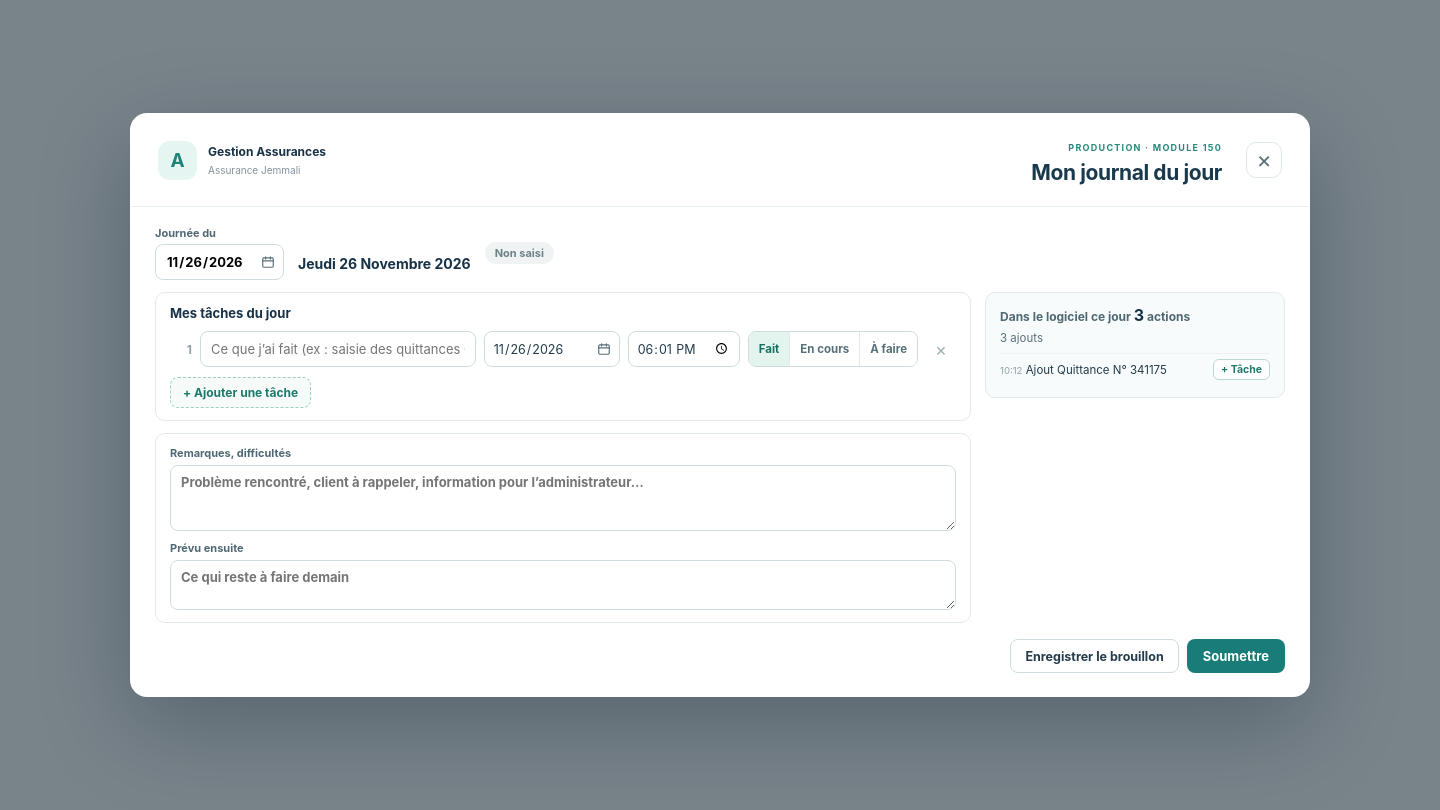
Test: an employee writes the day, adds a software action as a task, validates and sends it on WhatsApp
Replace the text in the field named "Tâche 1" with "Relance du client 4914": x=338, y=349 x1=200 y1=331 x2=476 y2=367
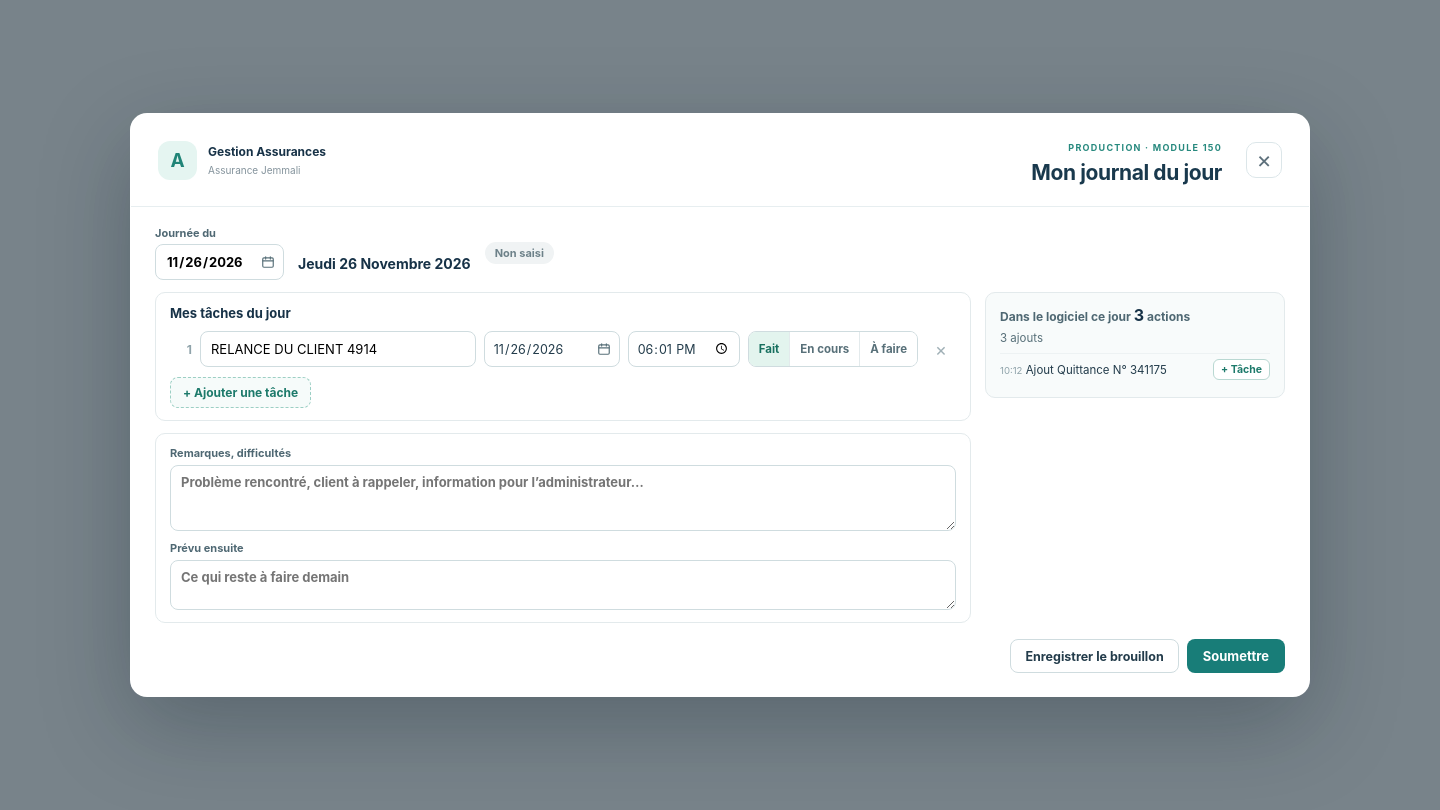
Click the button "En cours": x=824, y=349 x1=789 y1=332 x2=859 y2=366
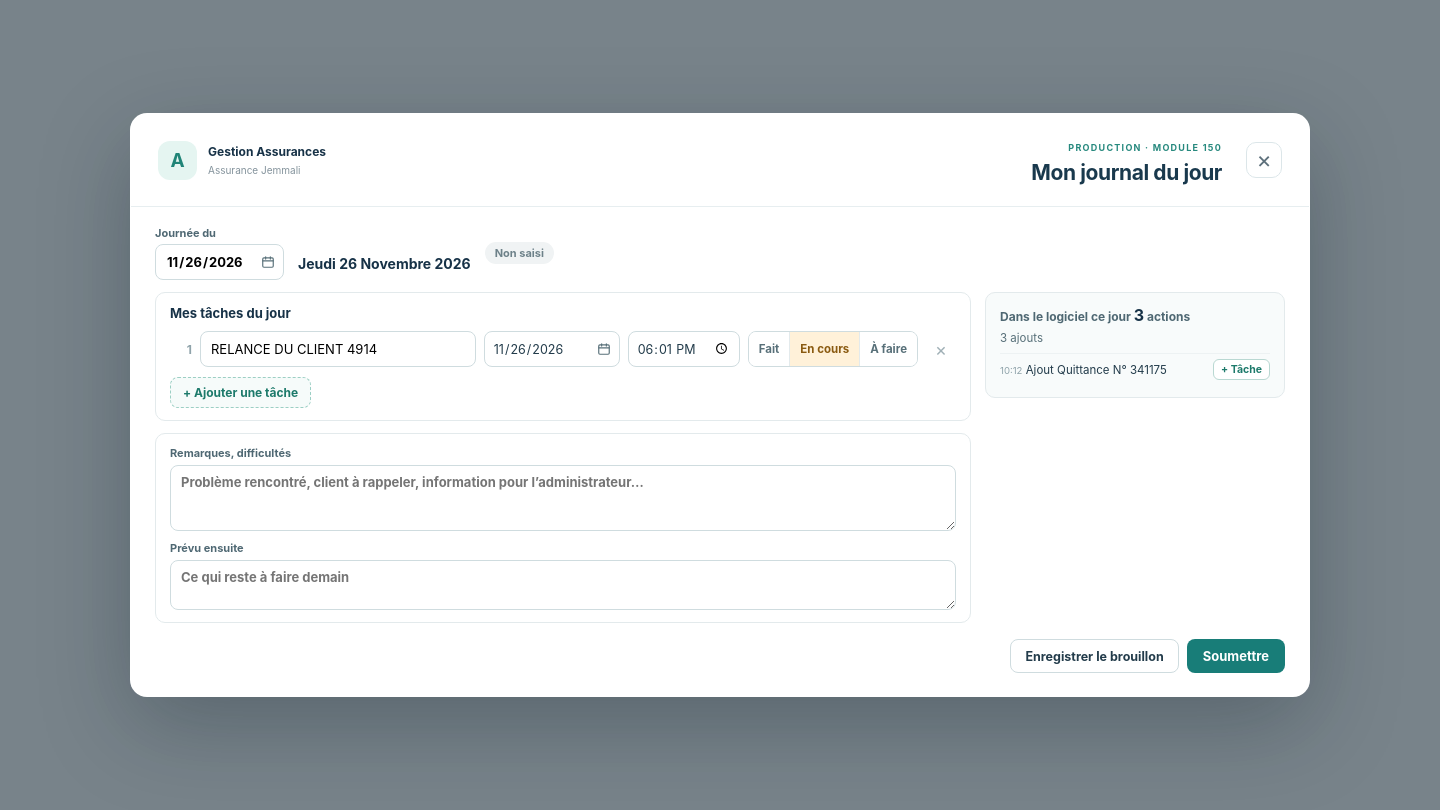
Replace the text in the time field named "Heure de la tâche 1" with "09:45": x=684, y=349 x1=628 y1=331 x2=740 y2=367
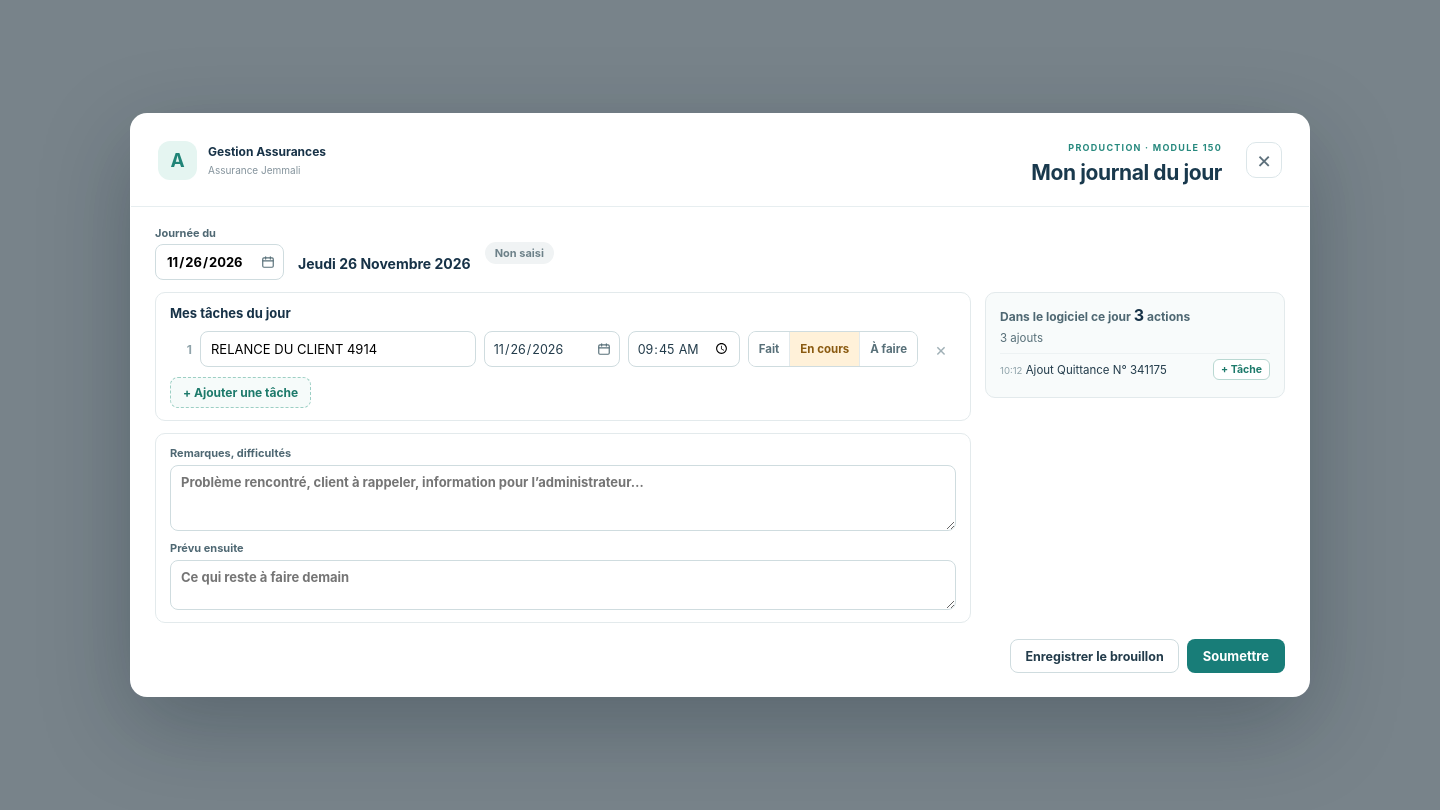
Click the button "+ Tâche": x=1242, y=370 x1=1213 y1=359 x2=1270 y2=380
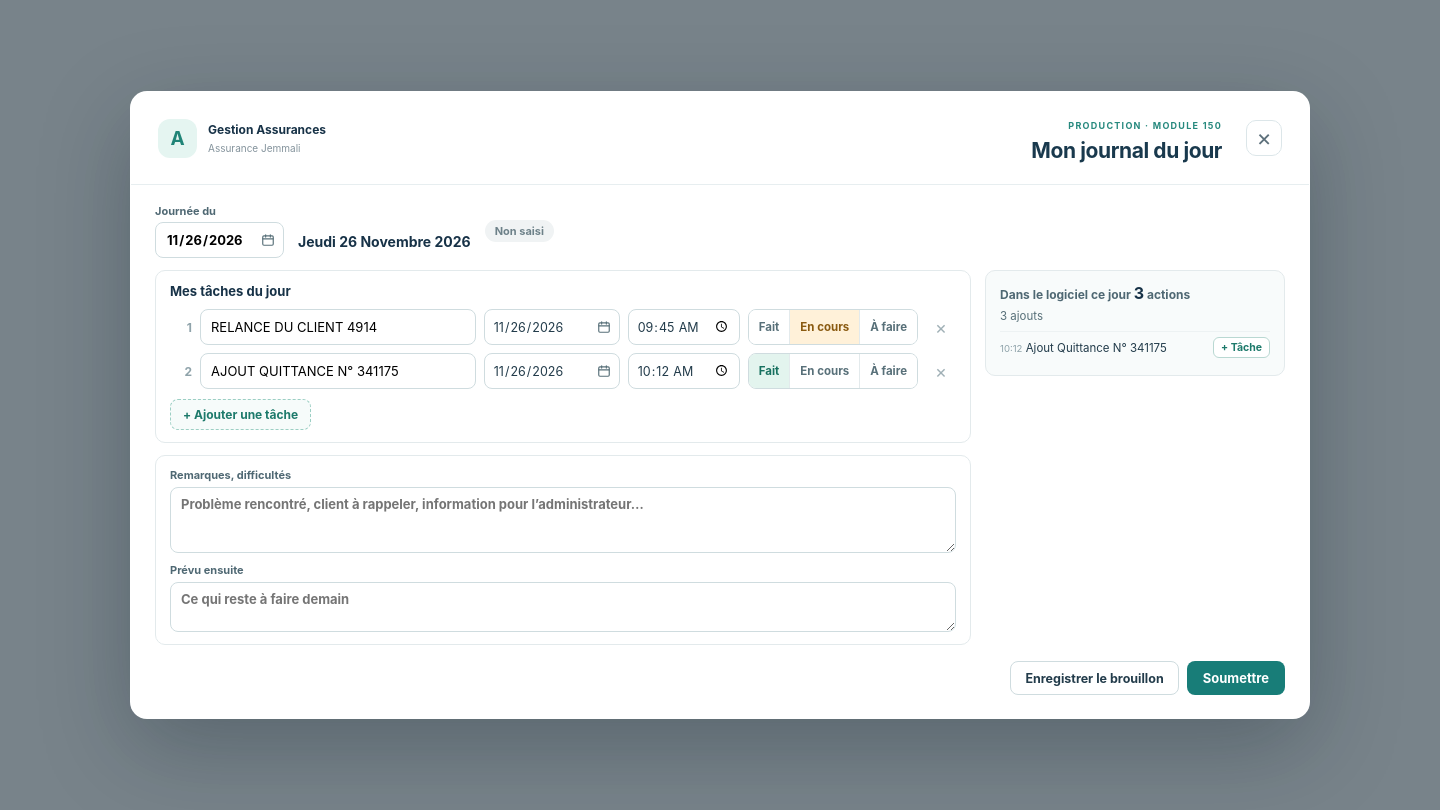
Click the button "Soumettre": x=1236, y=678 x1=1187 y1=661 x2=1285 y2=695
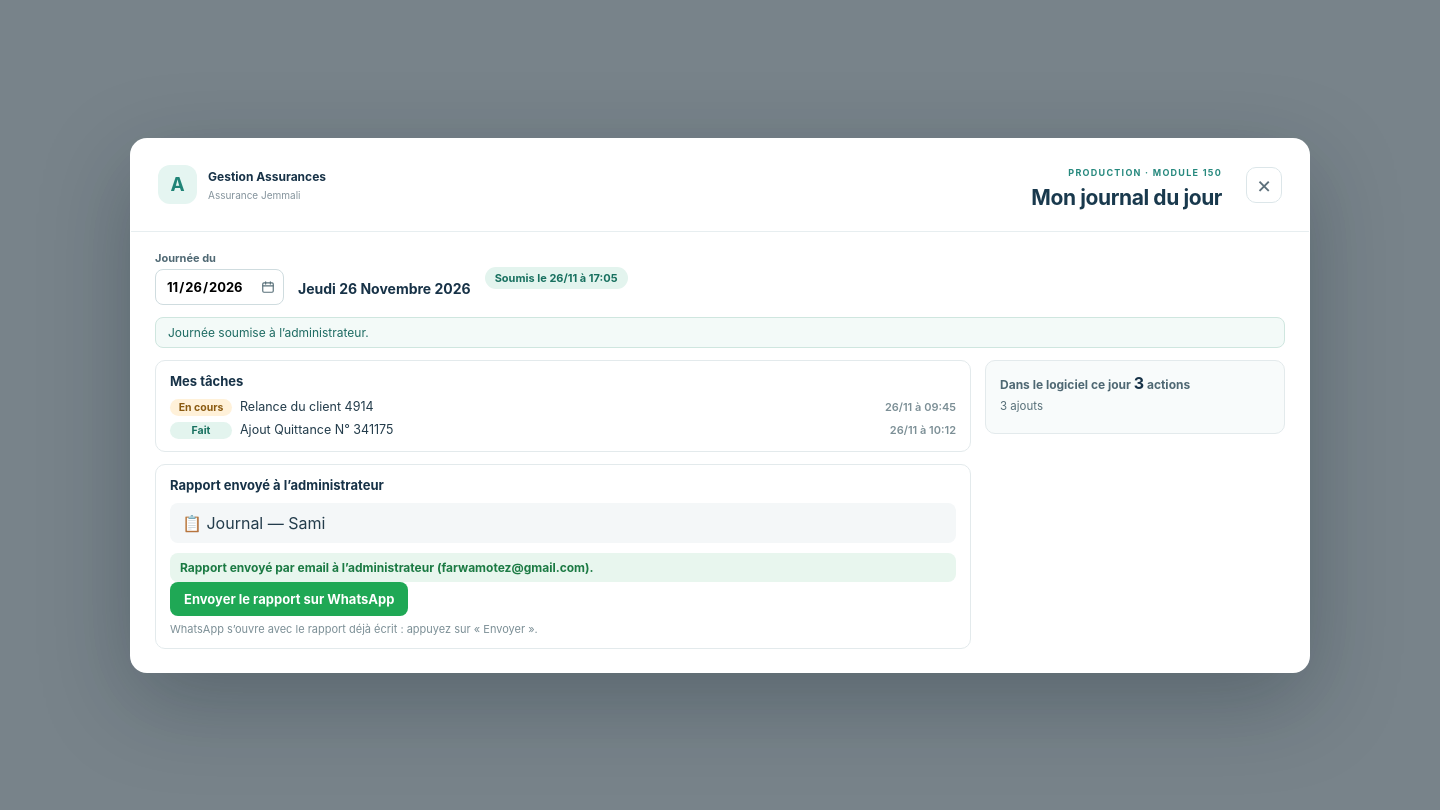
Check: the text "Rapport envoyé par email à l’administrateur (farwamotez@gmail.com)." is shown, box x1=170 y1=552 x2=956 y2=582
Check: the text "Soumis le 26/11 à 17:05" is shown, box x1=485 y1=266 x2=628 y2=288
